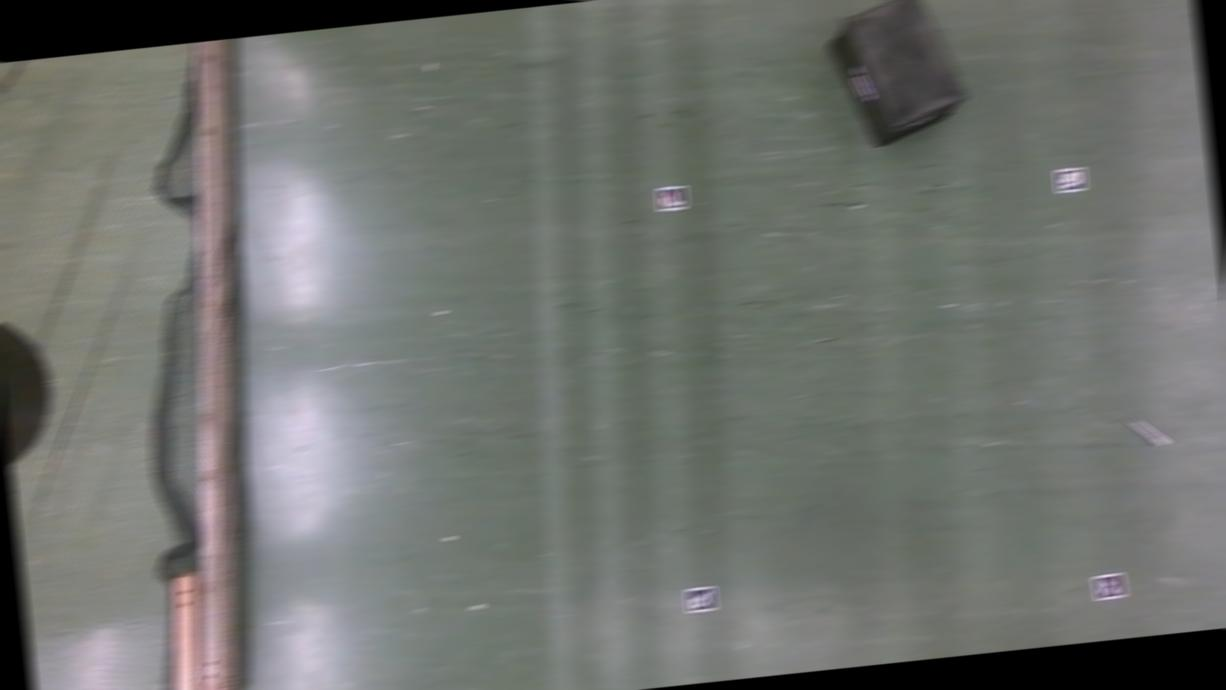probes: (1128, 414, 1170, 448)
rako: (820, 0, 972, 152)
